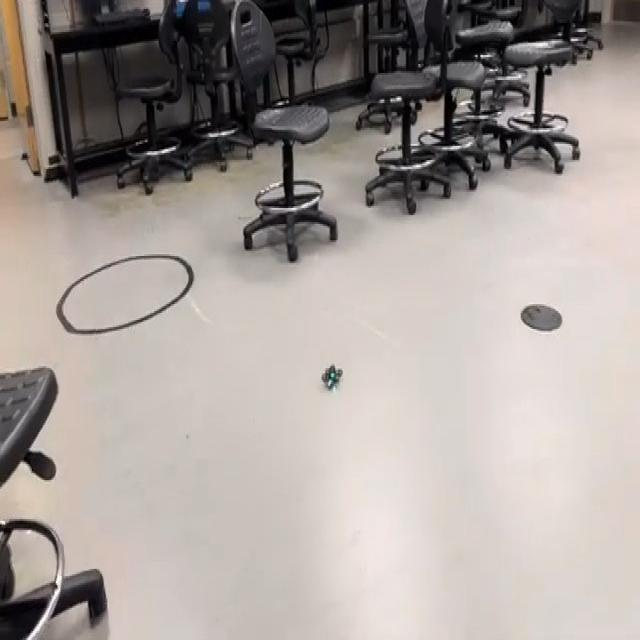drone: (310, 351, 349, 397)
